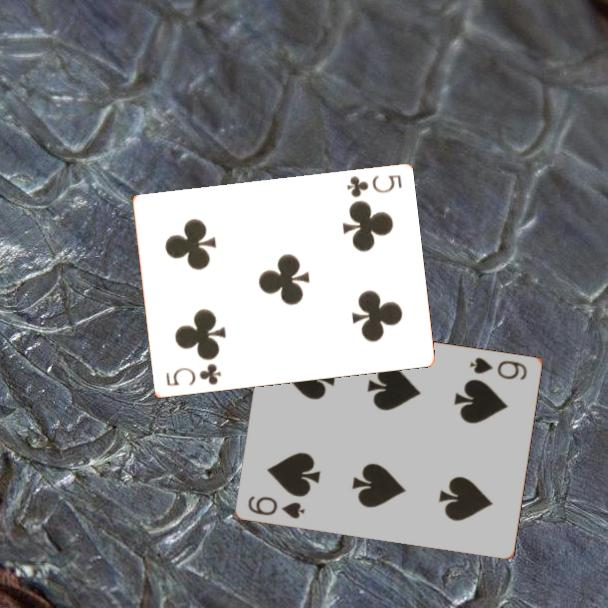c05: (162, 360, 224, 390), (343, 171, 404, 201)
s06: (466, 353, 530, 383), (245, 492, 308, 521)
